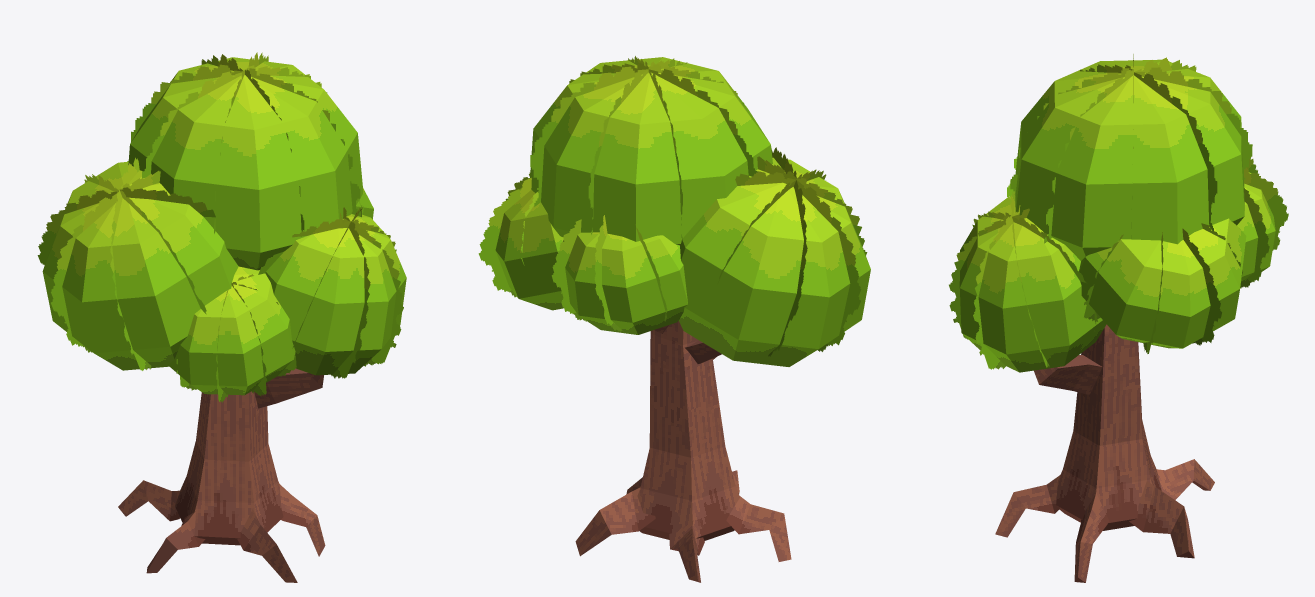
The model's file is nto_dub3.gltf.
3 views of the same model, side by side, from view 1: azimuth 30°, elevation 25°; view 2: azimuth 150°, elevation 25°; view 3: azimuth 270°, elevation 25° (orthographic). The views are drawn at different scales.
Visible parts, largest first — view 1: sphere; view 2: sphere; view 3: sphere.
Boxes of the visible parts, left/top/right/bottom form: sphere: left=37, top=52, right=406, bottom=582; sphere: left=478, top=56, right=870, bottom=582; sphere: left=949, top=54, right=1288, bottom=582.
Size of the model in its own units: 7.63 by 9.49 by 6.49.
1 material, 1 textured.
